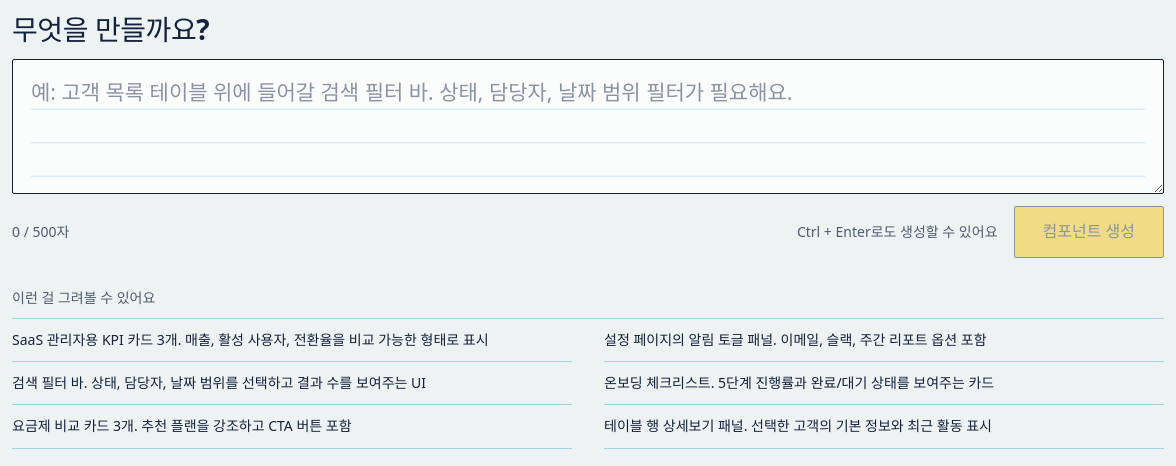
Test: PromptInput › 입력한 글자 수를 최대 길이와 함께 보여준다
The image size is (1176, 466).
Type "프로필 카드" into the text box at (588, 126), box [12, 59, 1164, 194]
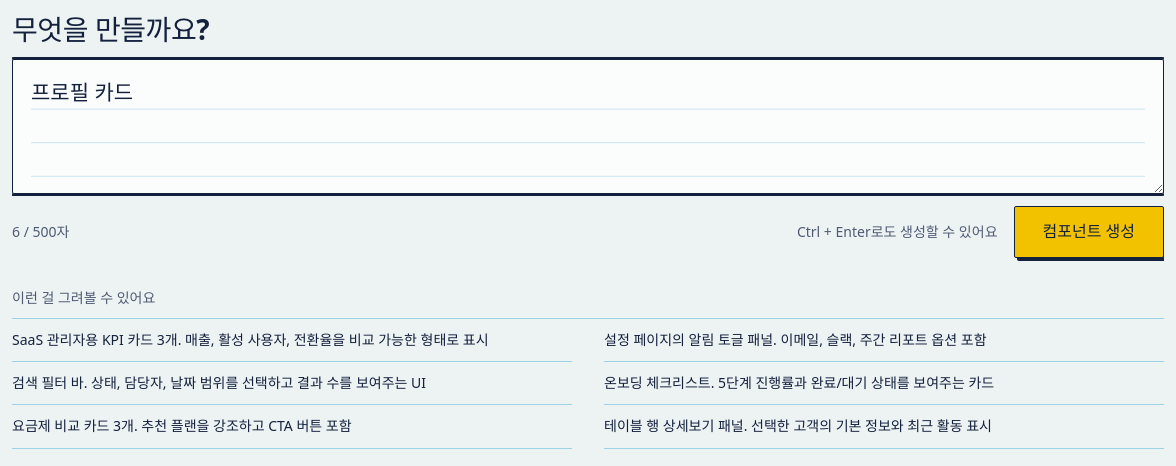
Expected: the text "6 / 500자" is shown, [12, 220, 69, 244]
